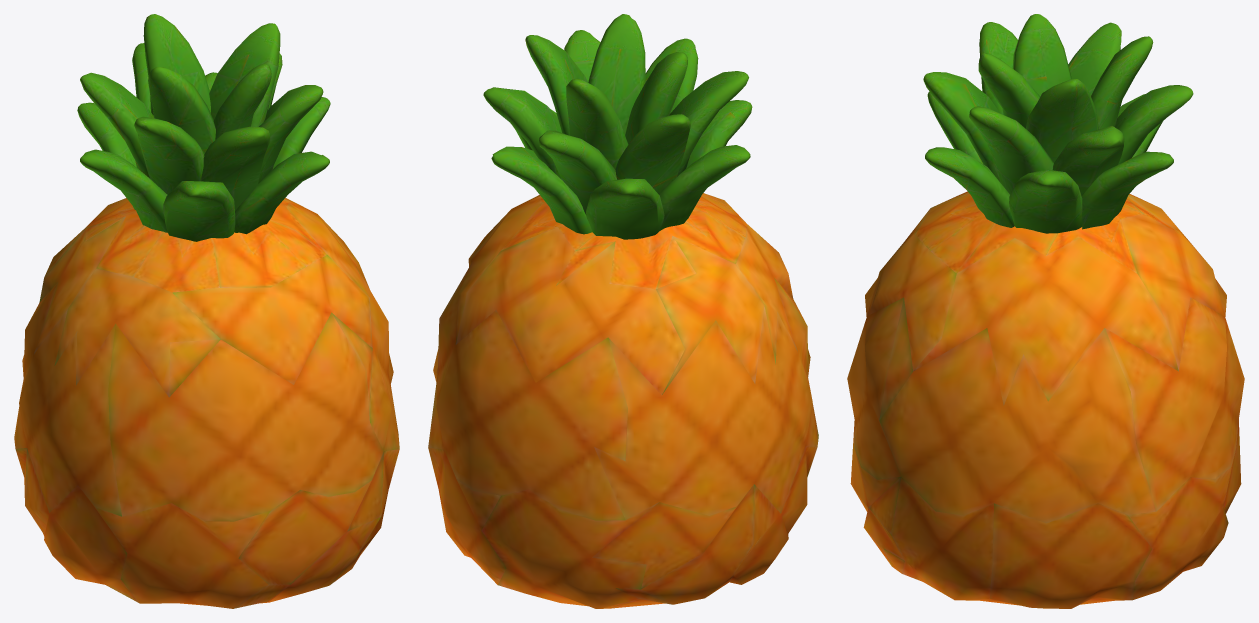
File: b02_pineapple.glb
3 views of the same model, side by side, from view 1: azimuth 30°, elevation 25°; view 2: azimuth 150°, elevation 25°; view 3: azimuth 270°, elevation 25° (orthographic). The views are drawn at different scales.
Visible parts, largest first — view 1: geometry_0; view 2: geometry_0; view 3: geometry_0.
Boxes of the visible parts, box(x1,y1,x2,y2) form: geometry_0: box(14, 14, 399, 608); geometry_0: box(428, 14, 818, 608); geometry_0: box(847, 14, 1244, 608).
Bounding box in the file's own units: 0.6504 × 0.9507 × 0.6597.
1 material, 1 textured.
